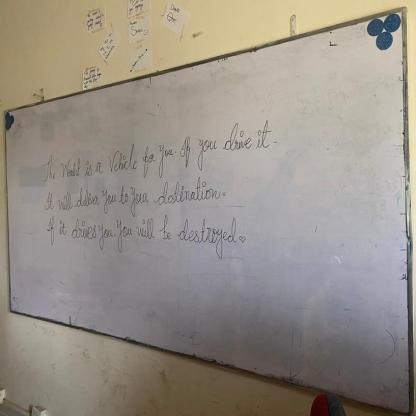Handwritten text: (30, 111, 282, 187), (43, 215, 239, 259), (38, 174, 227, 212)
Whiteboard: (2, 6, 412, 412)
